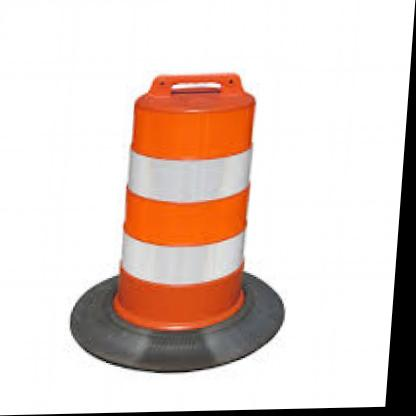obstacle: (105, 67, 271, 344)
